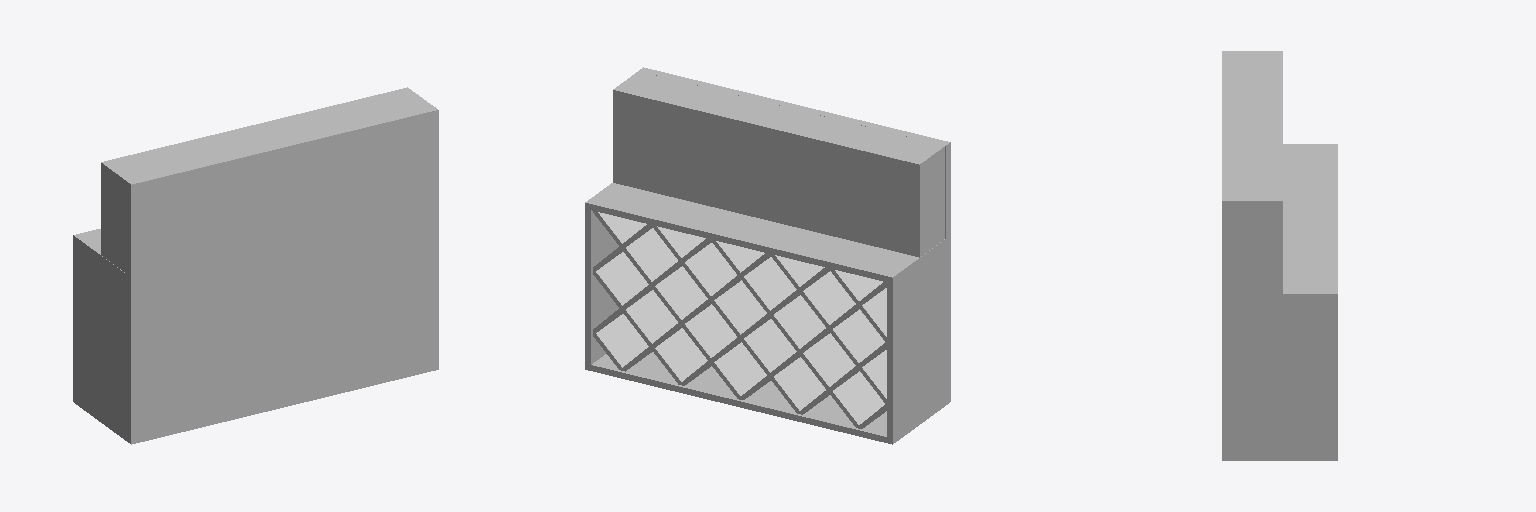
File: wine shelves 2.obj
3 views of the same model, side by side, from view 1: azimuth 30°, elevation 25°; view 2: azimuth 150°, elevation 25°; view 3: azimuth 270°, elevation 25° (orthographic).
Parts seen in each view (by area): view 1: зад_основа.1; view 2: зад_основа.1; view 3: зад_основа.1.
Boxes of the visible parts, box(x1,y1,x2,y2) form: зад_основа.1: box(73, 87, 438, 444); зад_основа.1: box(585, 67, 950, 444); зад_основа.1: box(1222, 51, 1337, 460).
Bounding box in the file's own units: 104 × 84.01 × 33.99.